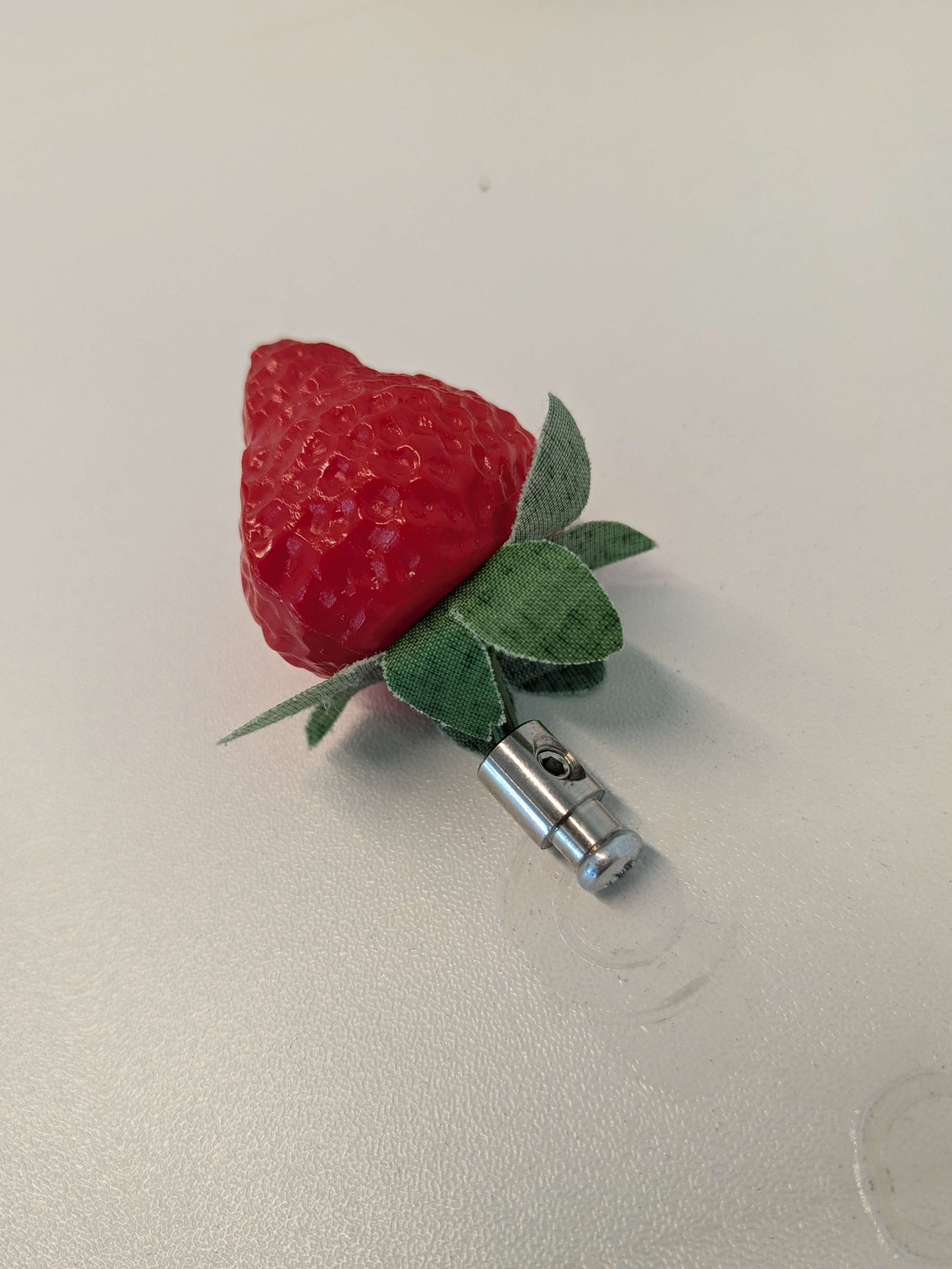Strawberry: (152, 238, 613, 711)
